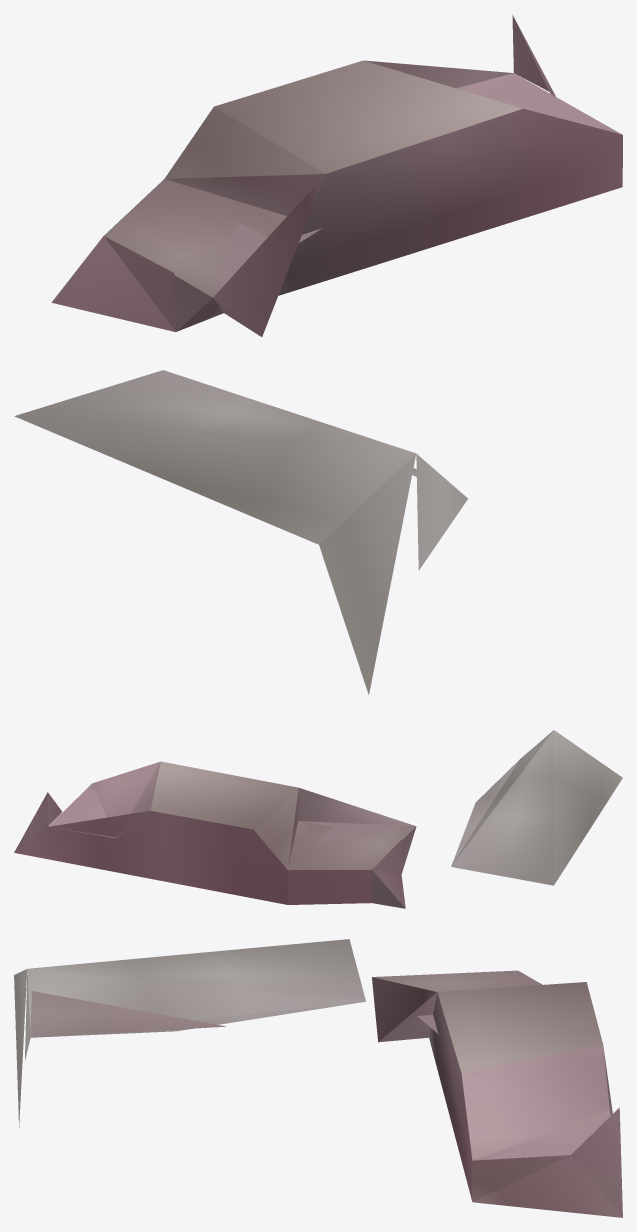
3 views of the same model, one above another, from view 1: azimuth 30°, elevation 25°; view 2: azimuth 150°, elevation 25°; view 3: azimuth 270°, elevation 25° (orthographic). The views are drawn at different scales.
Parts seen in each view (by area): view 1: Mesh_0; view 2: Mesh_0; view 3: Mesh_0.
Part boxes in pixels (box(x1,y1,x2,y2)): Mesh_0: box(14, 14, 622, 694); Mesh_0: box(14, 730, 622, 908); Mesh_0: box(14, 939, 622, 1217).
Size of the model in its own units: 66.73 by 24.84 by 60.98.
1 material, 1 textured.
